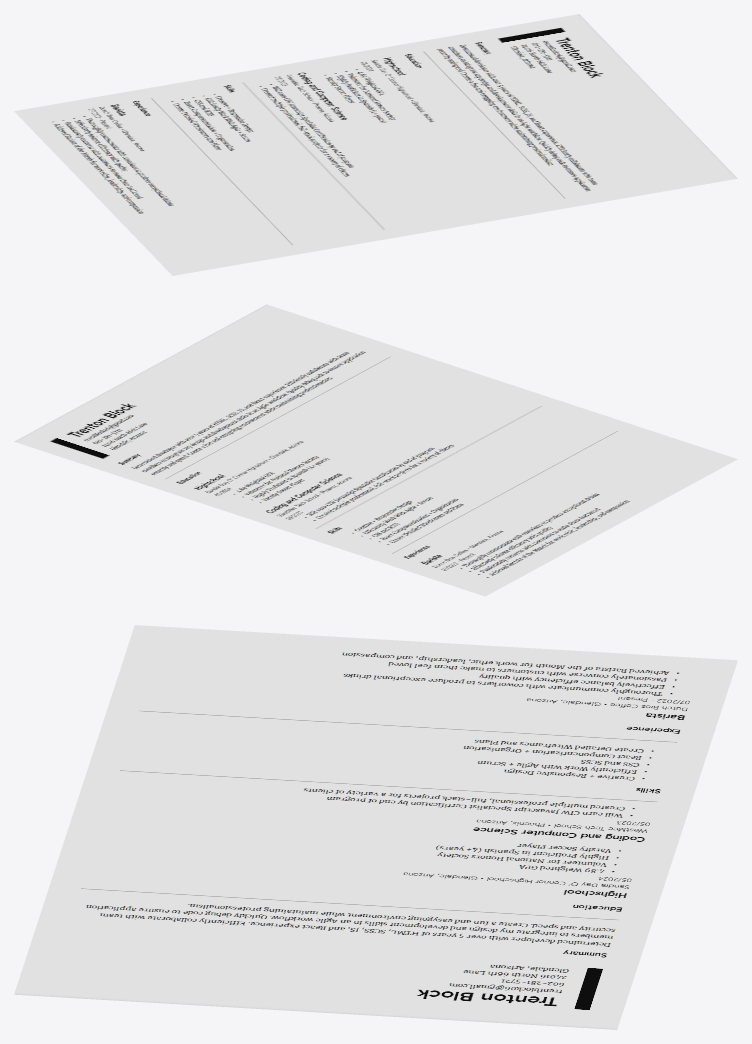
File: resumepaper.glb
3 views of the same model, one above another, from view 1: azimuth 30°, elevation 25°; view 2: azimuth 150°, elevation 25°; view 3: azimuth 270°, elevation 25° (orthographic). The views are drawn at different scales.
Parts seen in each view (by area): view 1: Plane.001; view 2: Plane.001; view 3: Plane.001.
Boxes of the visible parts, bbox=[...] form: Plane.001: bbox=[14, 14, 737, 275]; Plane.001: bbox=[14, 304, 737, 596]; Plane.001: bbox=[14, 625, 737, 1029].
Size of the model in its own units: 0.2512 by 0 by 0.1899.
Materials: 1 (1 with a texture image).
